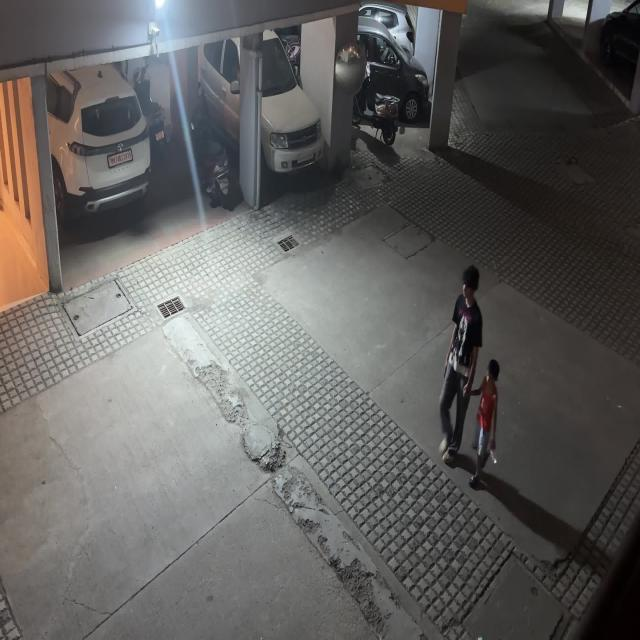human: (432, 254, 484, 464), (468, 331, 505, 490)
trash: (484, 440, 501, 474)
